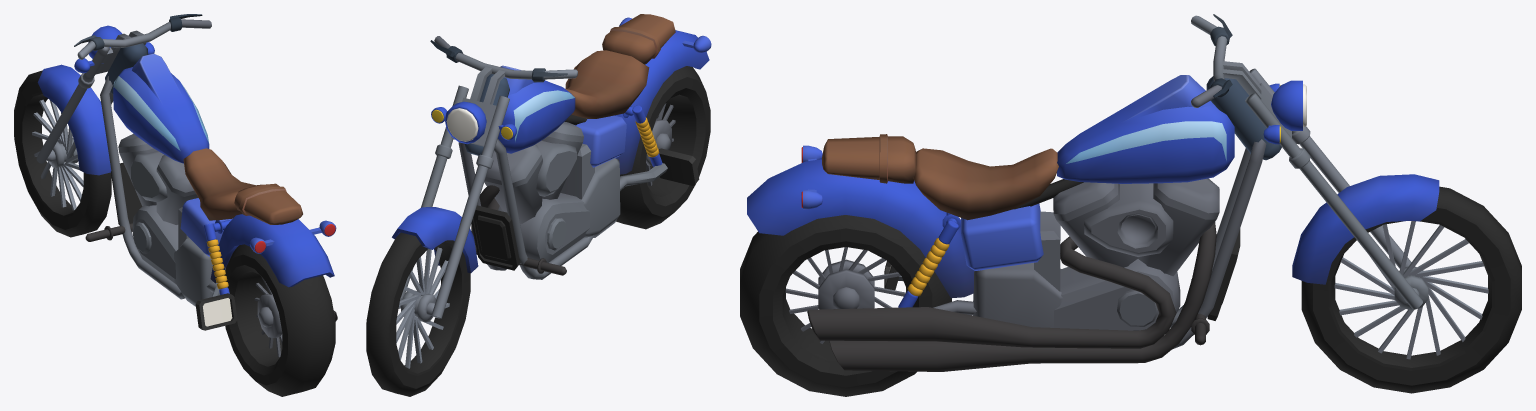
Rendered from Bobber.fbx.
3 renders of one model, left to right at view 1: azimuth 30°, elevation 25°; view 2: azimuth 150°, elevation 25°; view 3: azimuth 270°, elevation 25°, orthographic. The views are drawn at different scales.
Visible parts, largest first — view 1: pCube44, pSphere7; view 2: pCube44, pSphere7; view 3: pCube44, pSphere7.
Boxes of the visible parts, <box> form: pCube44: <box>85,53,337,396</box>; pSphere7: <box>14,14,211,237</box>; pCube44: <box>458,14,711,279</box>; pSphere7: <box>366,36,577,396</box>; pCube44: <box>740,75,1266,396</box>; pSphere7: <box>1191,14,1521,393</box>.
Bounding box in the file's own units: 75.99 × 140 × 296.
Materials: 1 (1 with a texture image).
